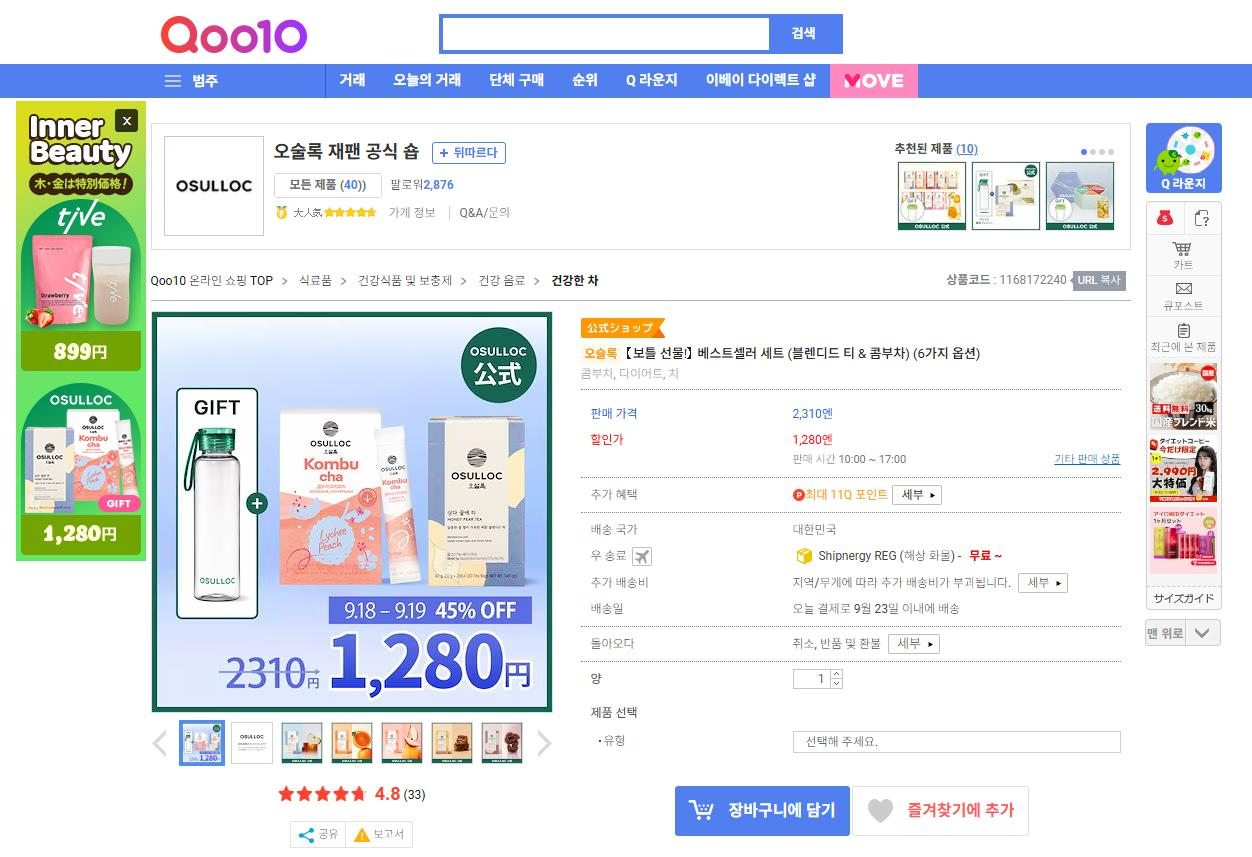button: (789, 723, 1135, 759), (673, 783, 853, 846), (859, 785, 1039, 843), (698, 61, 818, 96), (275, 168, 385, 198), (389, 61, 474, 98), (1148, 233, 1225, 273), (1146, 275, 1223, 314), (829, 66, 929, 96), (154, 58, 228, 98), (1148, 315, 1220, 356), (1045, 436, 1127, 471), (621, 61, 692, 99), (347, 819, 418, 855), (481, 64, 554, 99), (882, 626, 963, 656), (480, 718, 526, 770), (429, 138, 512, 165), (319, 60, 379, 97), (884, 482, 951, 515), (1016, 565, 1081, 599), (179, 721, 225, 768), (380, 721, 427, 767), (1065, 266, 1137, 296), (430, 719, 474, 768), (1145, 617, 1226, 643), (330, 722, 373, 767), (231, 722, 275, 763), (282, 722, 325, 763), (292, 819, 343, 849), (455, 201, 531, 221), (531, 725, 567, 764), (145, 724, 173, 768), (566, 66, 608, 95), (388, 205, 440, 227), (1151, 205, 1182, 235), (1190, 206, 1219, 234)
checkbox: (784, 668, 857, 699)
input_field: (433, 9, 851, 56)
popup: (13, 102, 148, 568), (1144, 118, 1224, 197)
